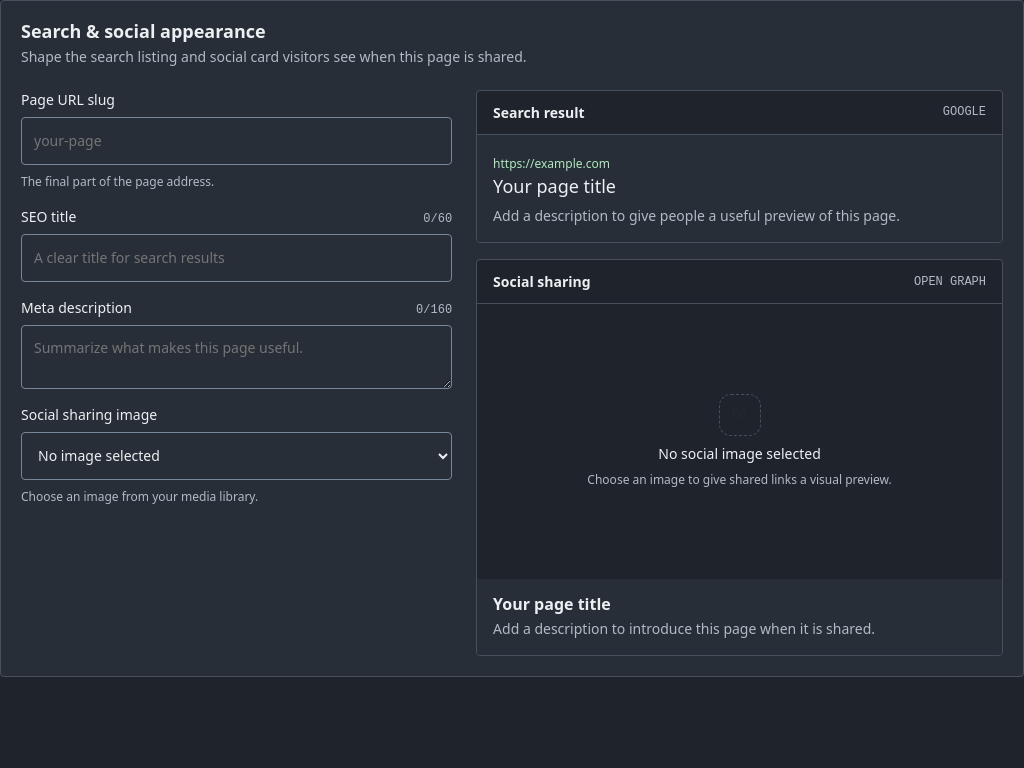
it: metadata and history › uses the example host when both the site URL and page slug are empty
Expected: the text "https://example.com" is shown, 493,155 -> 610,172
Type "garden" into the field labelled "Page URL slug".
click(237, 141); type("garden")  # box 21,117 -> 452,165
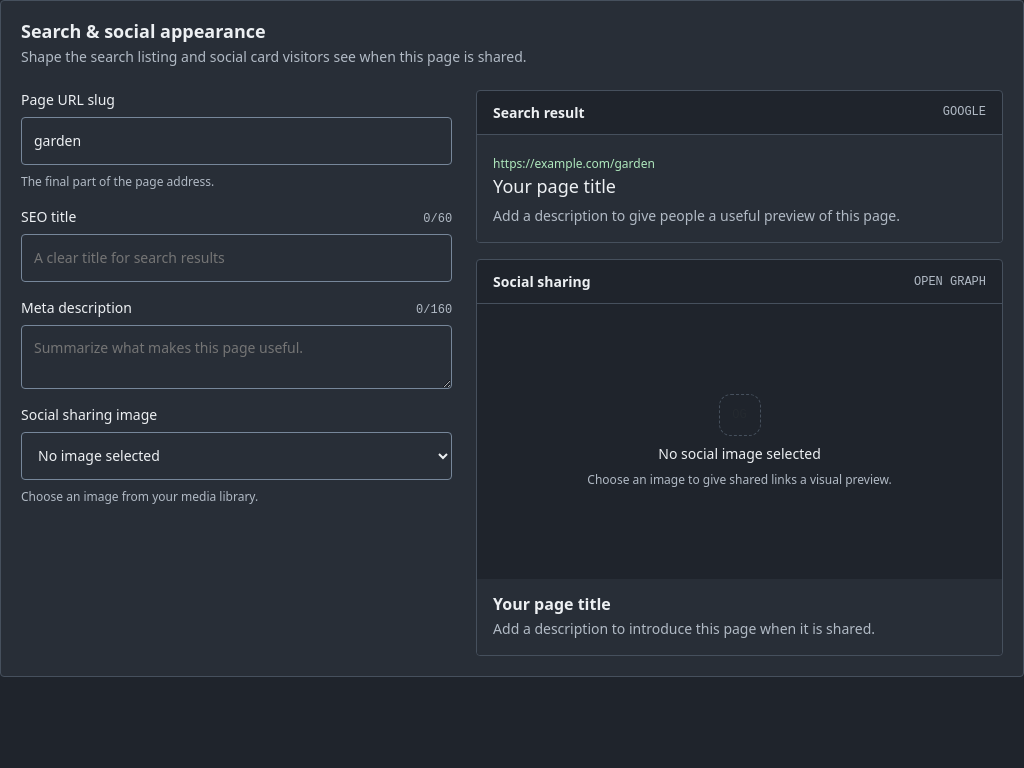
Expected: the text "https://example.com/garden" is shown, 493,155 -> 655,172
